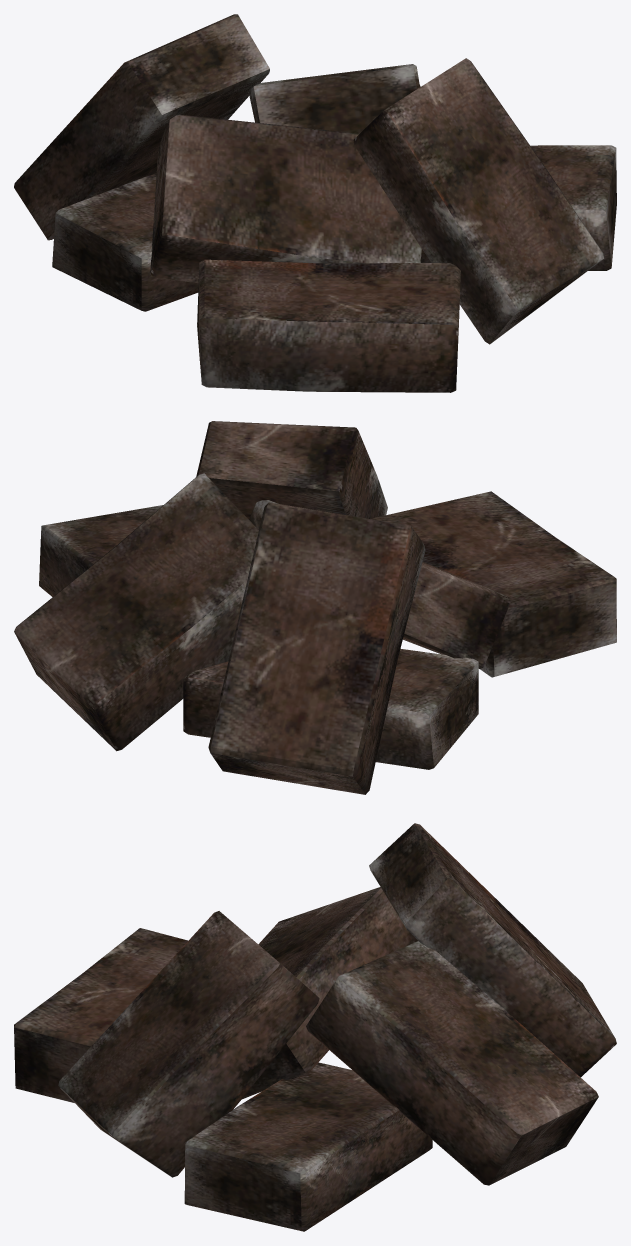
The model's file is brick_pile01.dae.
3 views of the same model, one above another, from view 1: azimuth 30°, elevation 25°; view 2: azimuth 150°, elevation 25°; view 3: azimuth 270°, elevation 25° (orthographic).
Visible parts, largest first — view 1: polySurface33; view 2: polySurface33; view 3: polySurface33.
Part boxes in pixels (x1,y1,x2,y2): polySurface33: (14,14,616,392); polySurface33: (14,421,616,794); polySurface33: (14,823,616,1231).
Bounding box in the file's own units: 0.5546 × 0.2427 × 0.5918.
